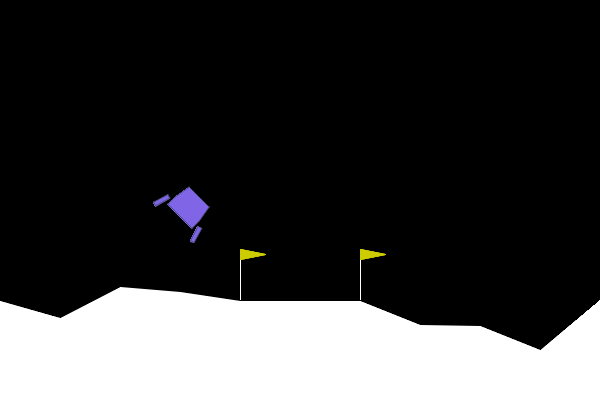lander: (151, 175, 221, 246)
